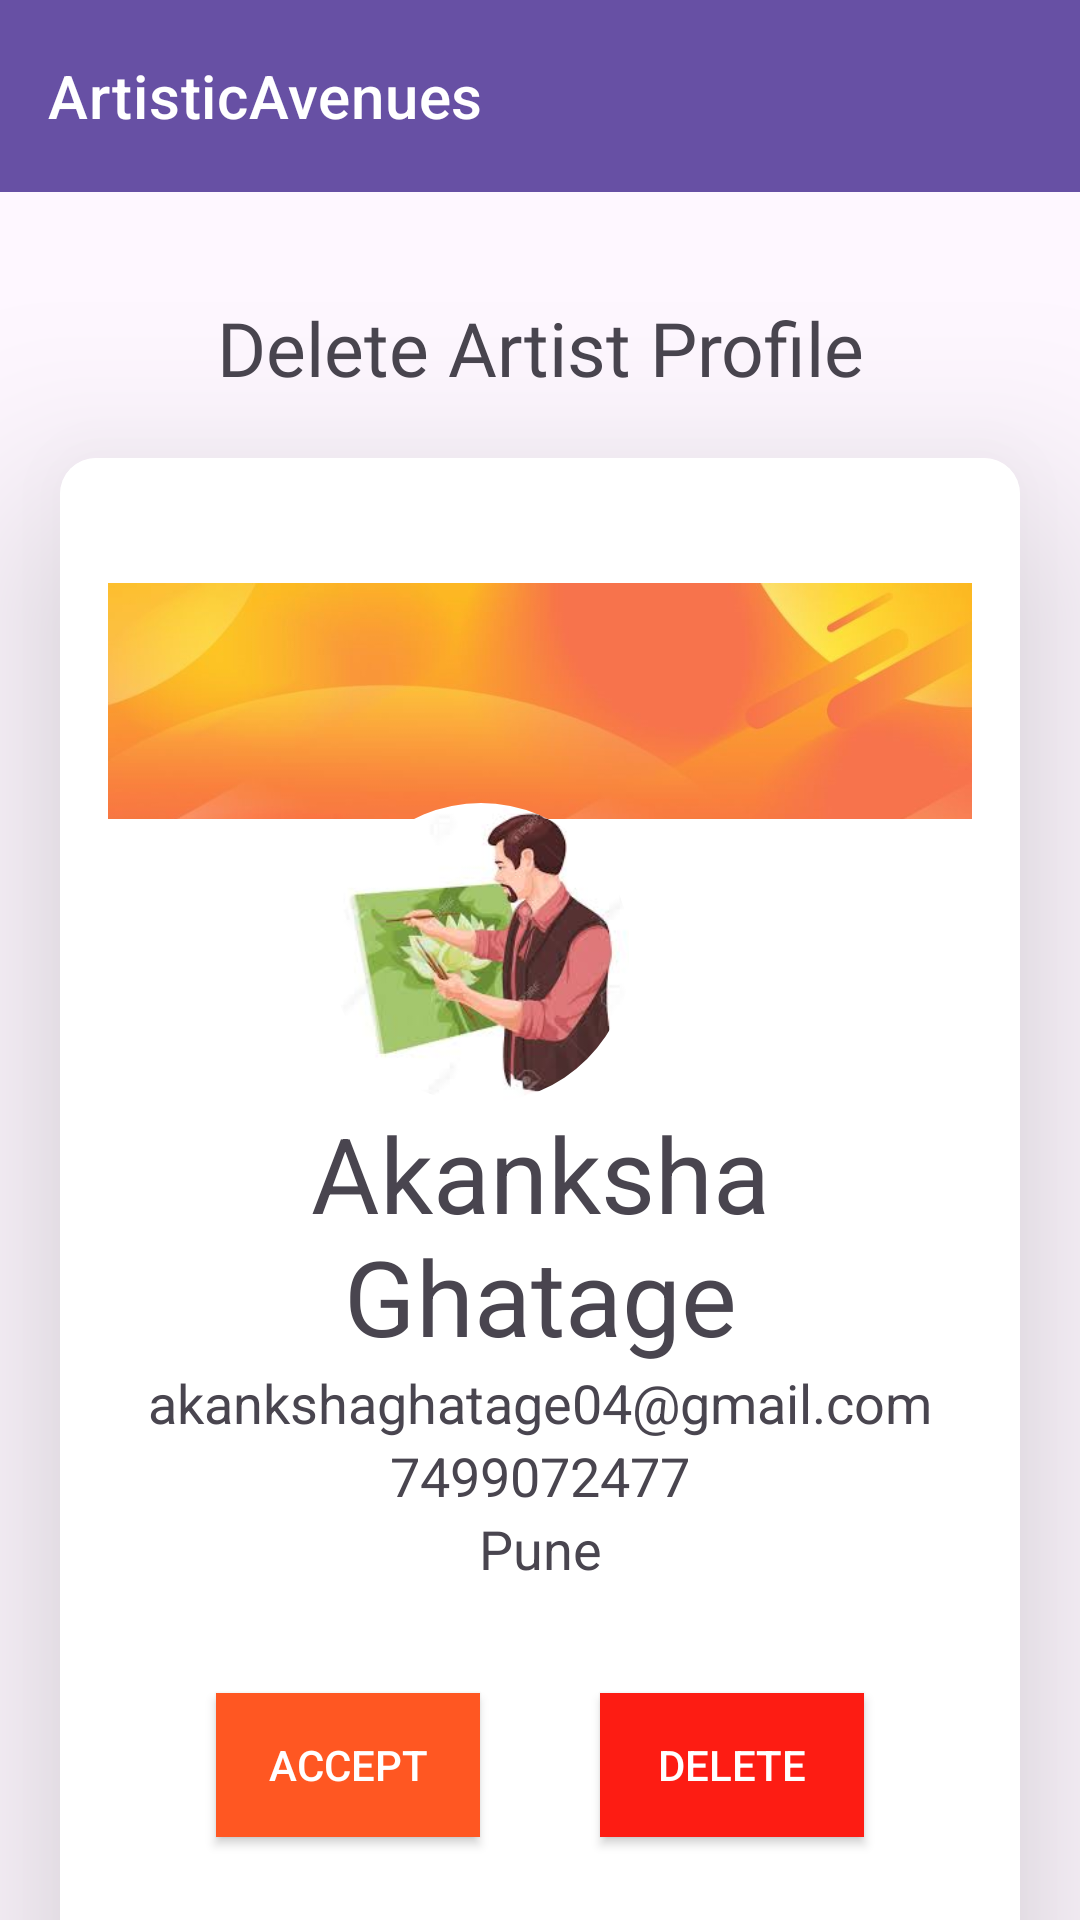

Where to tap for icons on this 1080px×1920px app screen, as (x=x, y=y):
artist: (x=481, y=947)
